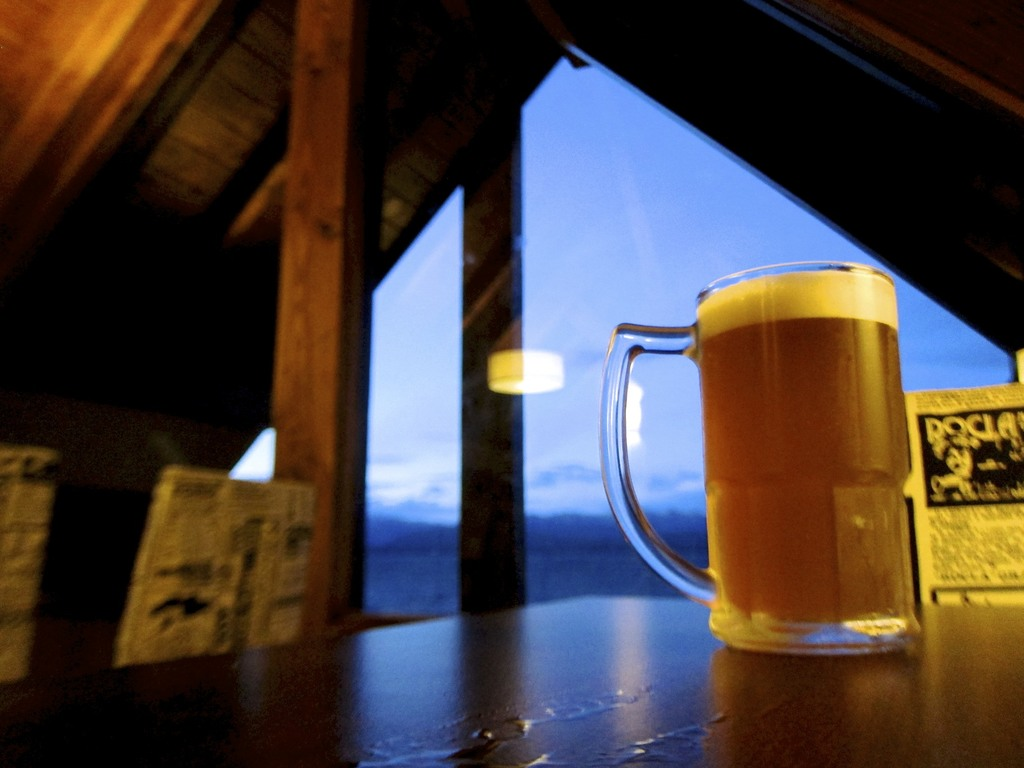Beer: (689, 270, 914, 620)
